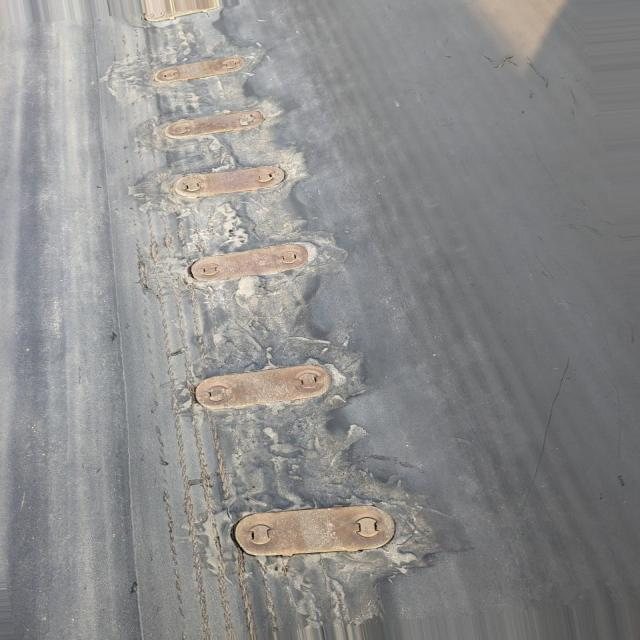patch work: (111, 0, 482, 640)
